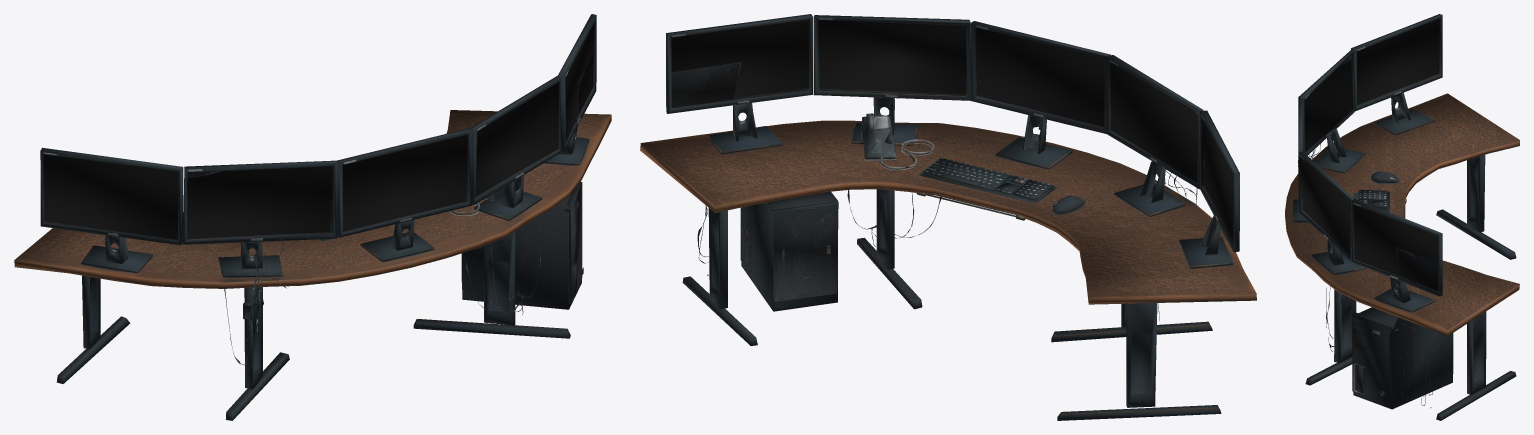
The model's file is office-trading-desk.glb.
3 renders of one model, left to right at view 1: azimuth 30°, elevation 25°; view 2: azimuth 150°, elevation 25°; view 3: azimuth 270°, elevation 25°, orthographic. The views are drawn at different scales.
Parts seen in each view (by area): view 1: trading-desk; view 2: trading-desk; view 3: trading-desk.
Boxes of the visible parts, x1,y1,x2,y2 form: trading-desk: [14, 14, 611, 420]; trading-desk: [640, 14, 1256, 420]; trading-desk: [1285, 14, 1519, 420].
Size of the model in its own units: 1.8 by 0.6844 by 0.7535.
Materials: 1 (1 with a texture image).
